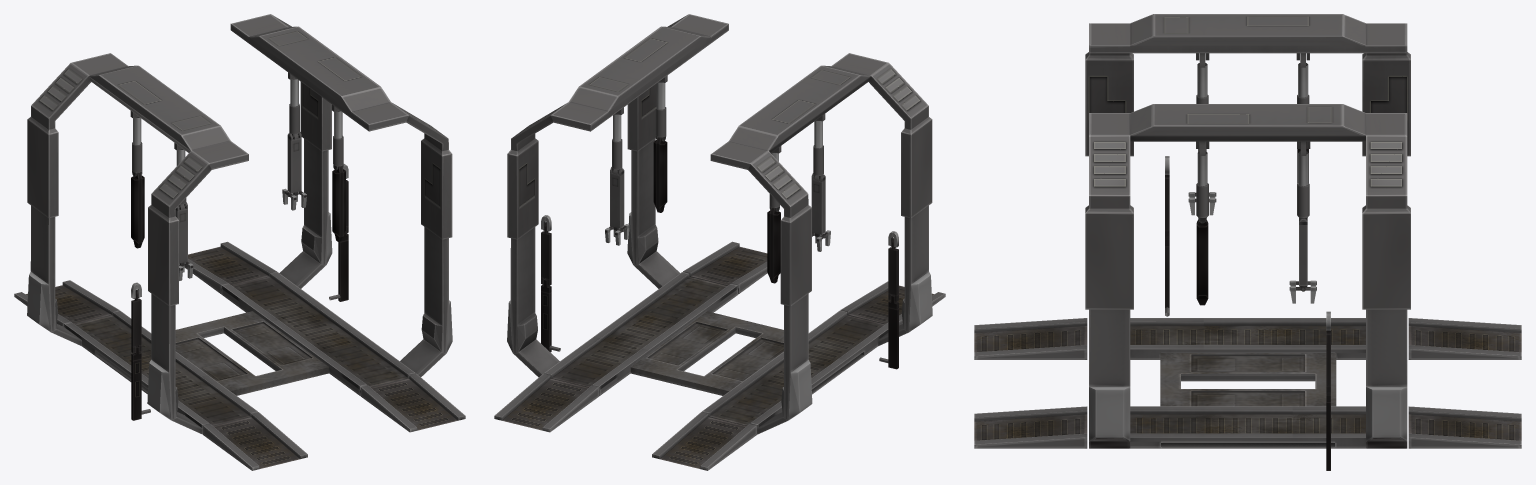
The model's file is Mechbay.FBX.
3 renders of one model, left to right at view 1: azimuth 30°, elevation 25°; view 2: azimuth 150°, elevation 25°; view 3: azimuth 270°, elevation 25°, orthographic. The views are drawn at different scales.
Visible parts, largest first — view 1: supportlupper, supportrupper, rampr, rampl, base, supportllower, supportrlower, ramprfoldrear, ramplfoldrear, ramprfoldfront, ramplfoldfront, supportltorchlower (+6 smaller); view 2: supportlupper, supportrupper, rampr, rampl, base, supportllower, supportrlower, ramprfoldfront, ramplfoldfront, ramprfoldrear, ramplfoldrear, supportrtorchlower (+7 smaller); view 3: supportrupper, supportlupper, supportrlower, rampr, rampl, base, ramprfoldrear, ramprfoldfront, ramplfoldfront, ramplfoldrear, supportrtorchlower, supportrhandlower.
Part boxes in pixels (<box>): supportlupper: <box>27,53,248,306</box>; supportrupper: <box>230,14,452,239</box>; rampr: <box>221,251,446,395</box>; rampl: <box>51,310,257,434</box>; base: <box>175,311,328,395</box>; supportllower: <box>27,205,178,420</box>; supportrlower: <box>301,139,452,352</box>; ramprfoldrear: <box>360,373,465,432</box>; ramplfoldrear: <box>203,412,307,470</box>; ramprfoldfront: <box>184,241,276,294</box>; ramplfoldfront: <box>14,280,118,326</box>; supportltorchlower: <box>131,172,144,248</box>; supportlupper: <box>710,53,932,306</box>; supportrupper: <box>507,14,728,239</box>; rampr: <box>513,251,737,395</box>; rampl: <box>702,310,908,434</box>; base: <box>630,311,783,395</box>; supportllower: <box>781,205,932,420</box>; supportrlower: <box>507,139,658,353</box>; ramprfoldfront: <box>494,373,599,432</box>; ramplfoldfront: <box>652,412,756,470</box>; ramprfoldrear: <box>683,241,767,294</box>; ramplfoldrear: <box>841,281,945,325</box>; supportrtorchlower: <box>653,137,667,212</box>; supportrupper: <box>1085,104,1410,309</box>; supportlupper: <box>1085,14,1410,156</box>; supportrlower: <box>1089,309,1407,441</box>; rampr: <box>1089,406,1407,448</box>; rampl: <box>1130,318,1365,359</box>; base: <box>1160,353,1336,406</box>; ramprfoldrear: <box>974,406,1087,448</box>; ramprfoldfront: <box>1408,406,1521,448</box>; ramplfoldfront: <box>1408,318,1521,359</box>; ramplfoldrear: <box>974,318,1087,359</box>; supportrtorchlower: <box>1196,219,1208,305</box>; supportrhandlower: <box>1299,218,1307,286</box>.
Size of the model in its own units: 81.58 by 74.15 by 115.
Materials: 1 (1 with a texture image).
